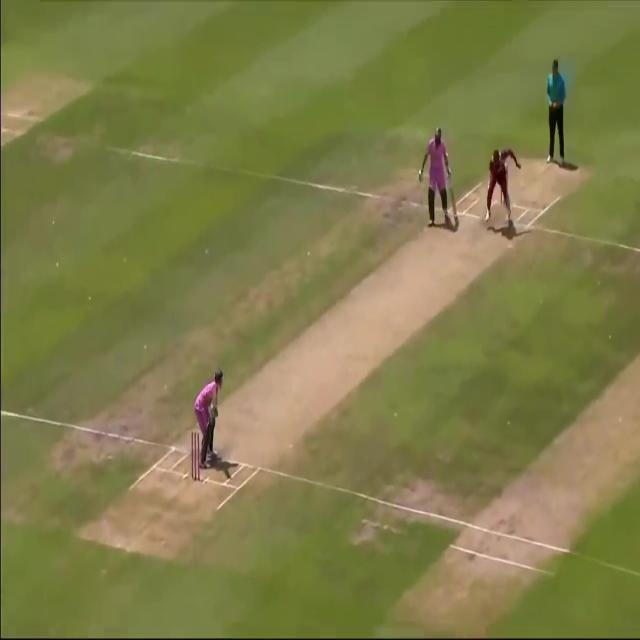Ball: (185, 363, 234, 480), (415, 126, 463, 230)
Fielder: (478, 142, 517, 230)
Umpire: (542, 54, 578, 172)
